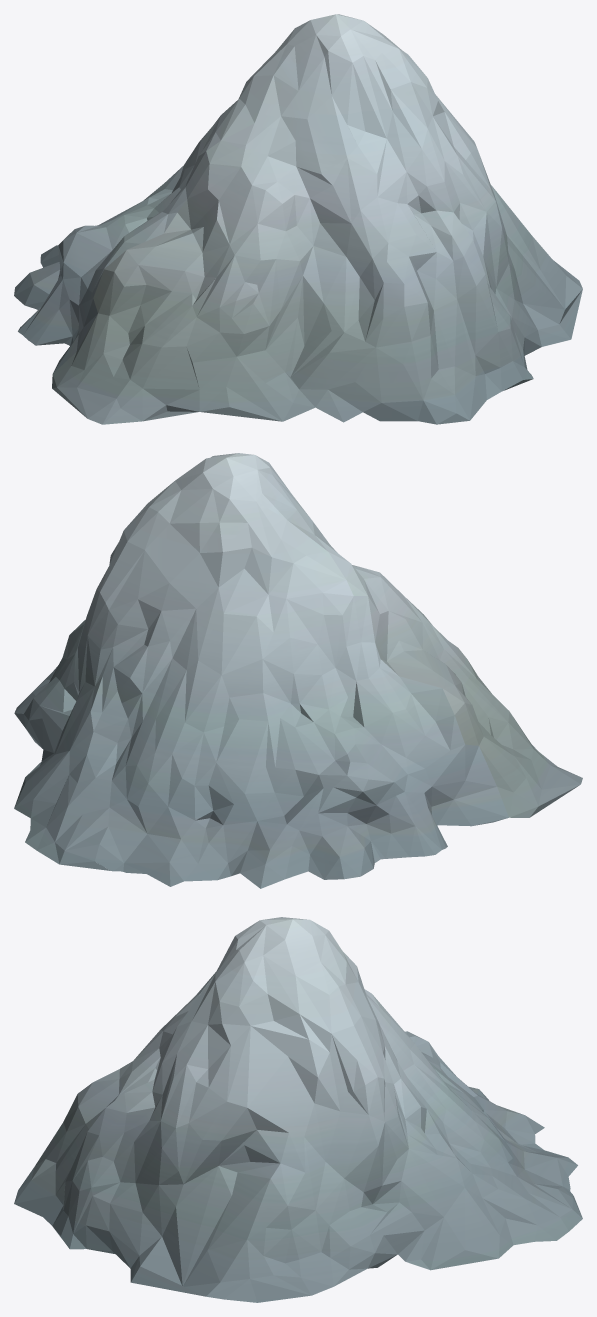
File: Unity2Skfb.gltf
3 views of the same model, one above another, from view 1: azimuth 30°, elevation 25°; view 2: azimuth 150°, elevation 25°; view 3: azimuth 270°, elevation 25° (orthographic). The views are drawn at different scales.
Parts seen in each view (by area): view 1: node_Mountain3_-1129440; view 2: node_Mountain3_-1129440; view 3: node_Mountain3_-1129440.
Part boxes in pixels (box(x1,y1,x2,y2)): node_Mountain3_-1129440: box(14, 14, 582, 424); node_Mountain3_-1129440: box(14, 453, 582, 888); node_Mountain3_-1129440: box(14, 917, 582, 1302).
Size of the model in its own units: 116 by 65.54 by 116.
Materials: 1 (1 with a texture image).
